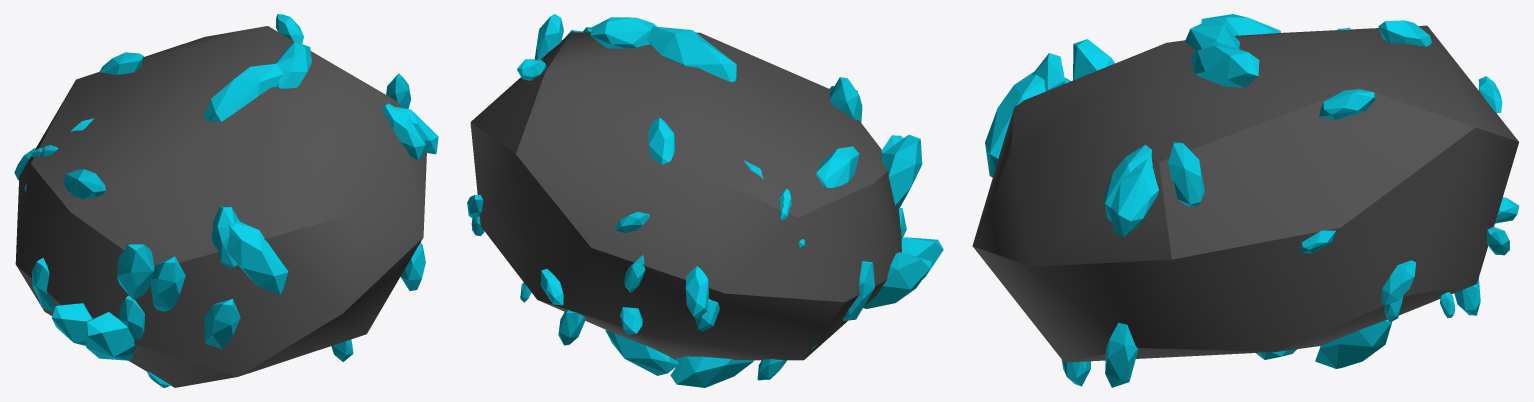
The model's file is Pedra com cristais.fbx.
3 views of the same model, side by side, from view 1: azimuth 30°, elevation 25°; view 2: azimuth 150°, elevation 25°; view 3: azimuth 270°, elevation 25° (orthographic). The views are drawn at different scales.
Parts seen in each view (by area): view 1: Icosphere.029; view 2: Icosphere.029; view 3: Icosphere.029.
Part boxes in pixels (bbox=[...]): Icosphere.029: bbox=[14, 14, 438, 387]; Icosphere.029: bbox=[467, 14, 943, 387]; Icosphere.029: bbox=[972, 14, 1519, 387].
Bounding box in the file's own units: 277 × 204 × 271.
